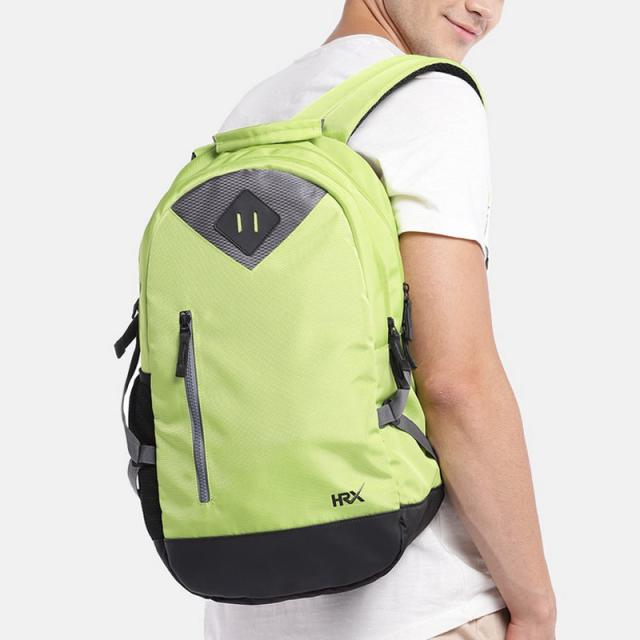backpack: (115, 53, 488, 604)
